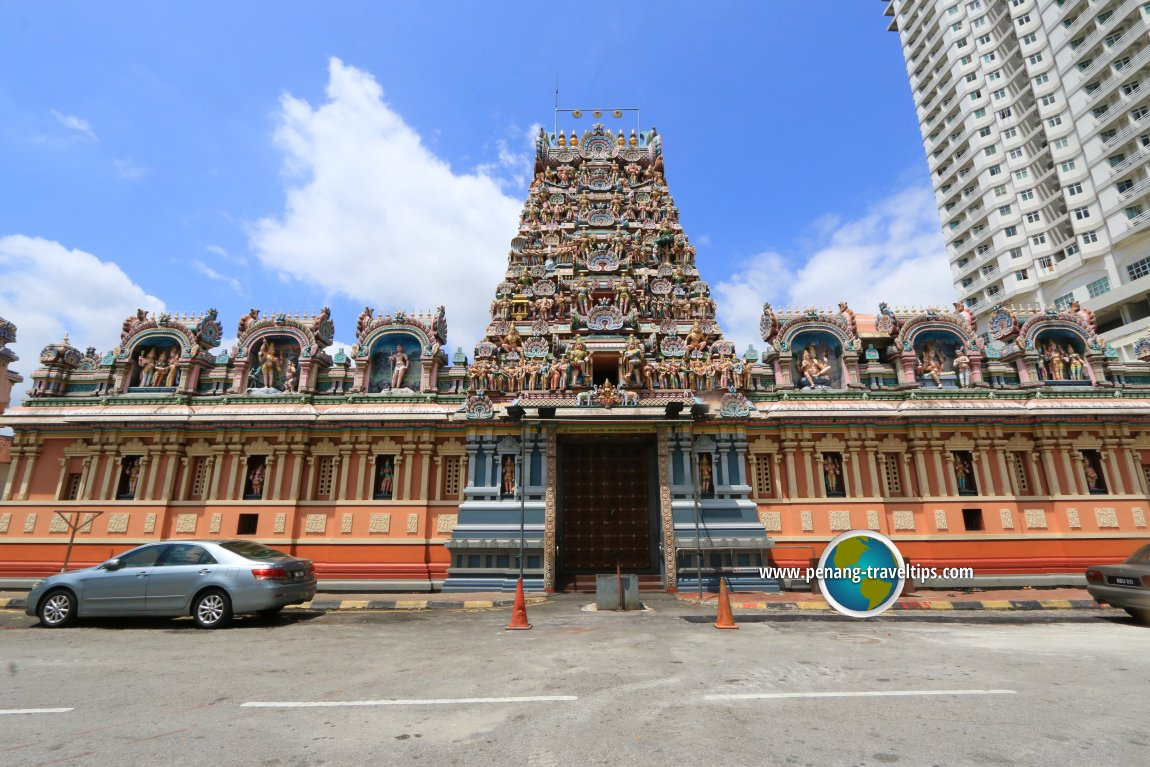Hindu Temple: (52, 120, 1117, 606)
